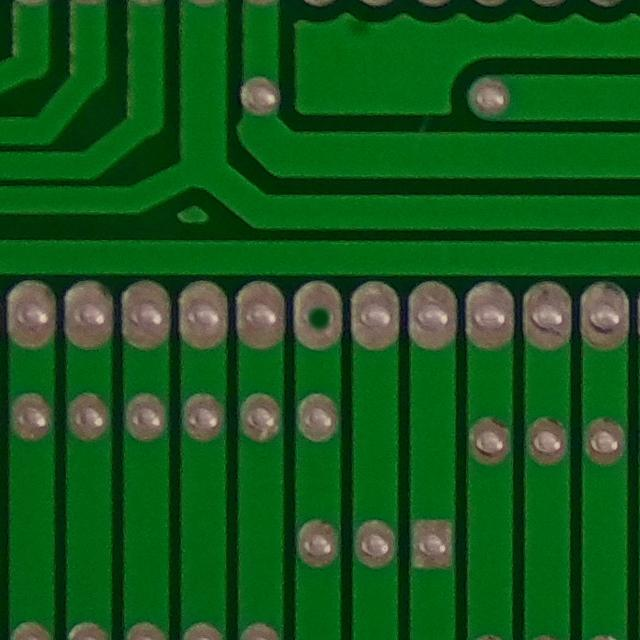missing_hole: (290, 275, 350, 355)
